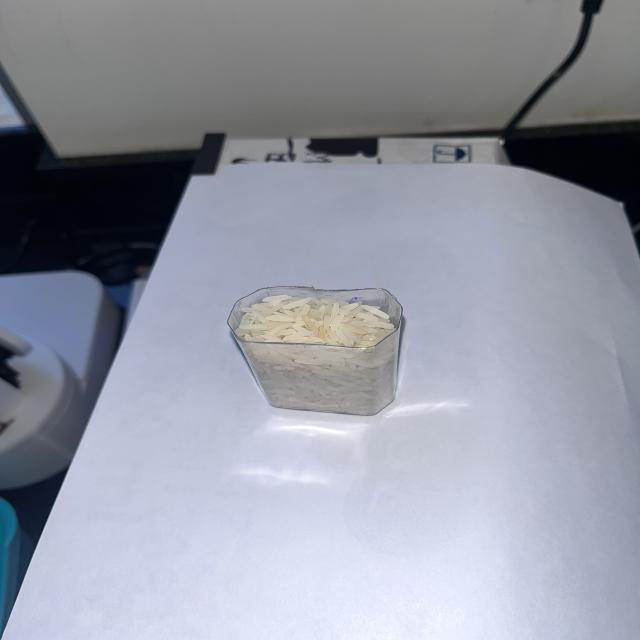raw_rice: (237, 292, 400, 417)
